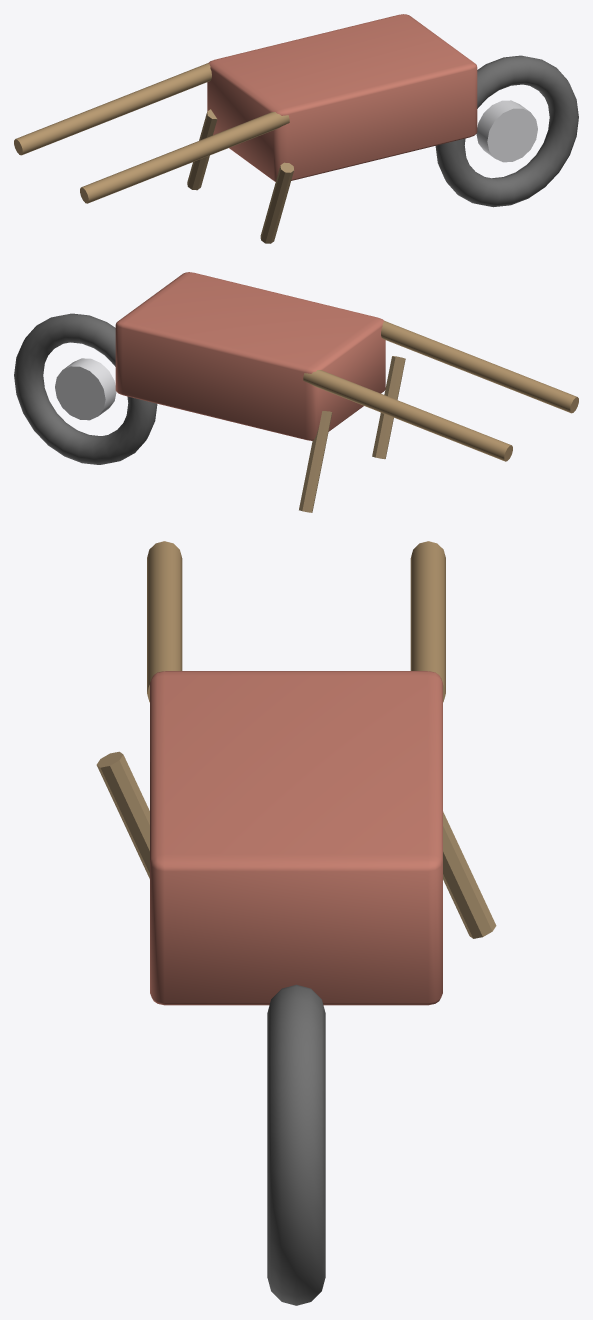
The model's file is wheelbarrow.fbx.
3 views of the same model, one above another, from view 1: azimuth 30°, elevation 25°; view 2: azimuth 150°, elevation 25°; view 3: azimuth 270°, elevation 25° (orthographic). The views are drawn at different scales.
Visible parts, largest first — view 1: Cube; view 2: Cube; view 3: Cube.
Part boxes in pixels (x1,y1,x2,y2): Cube: (14, 14, 578, 243); Cube: (14, 272, 578, 512); Cube: (96, 541, 496, 1305).
Bounding box in the file's own units: 4.15 × 1.37 × 1.36.
